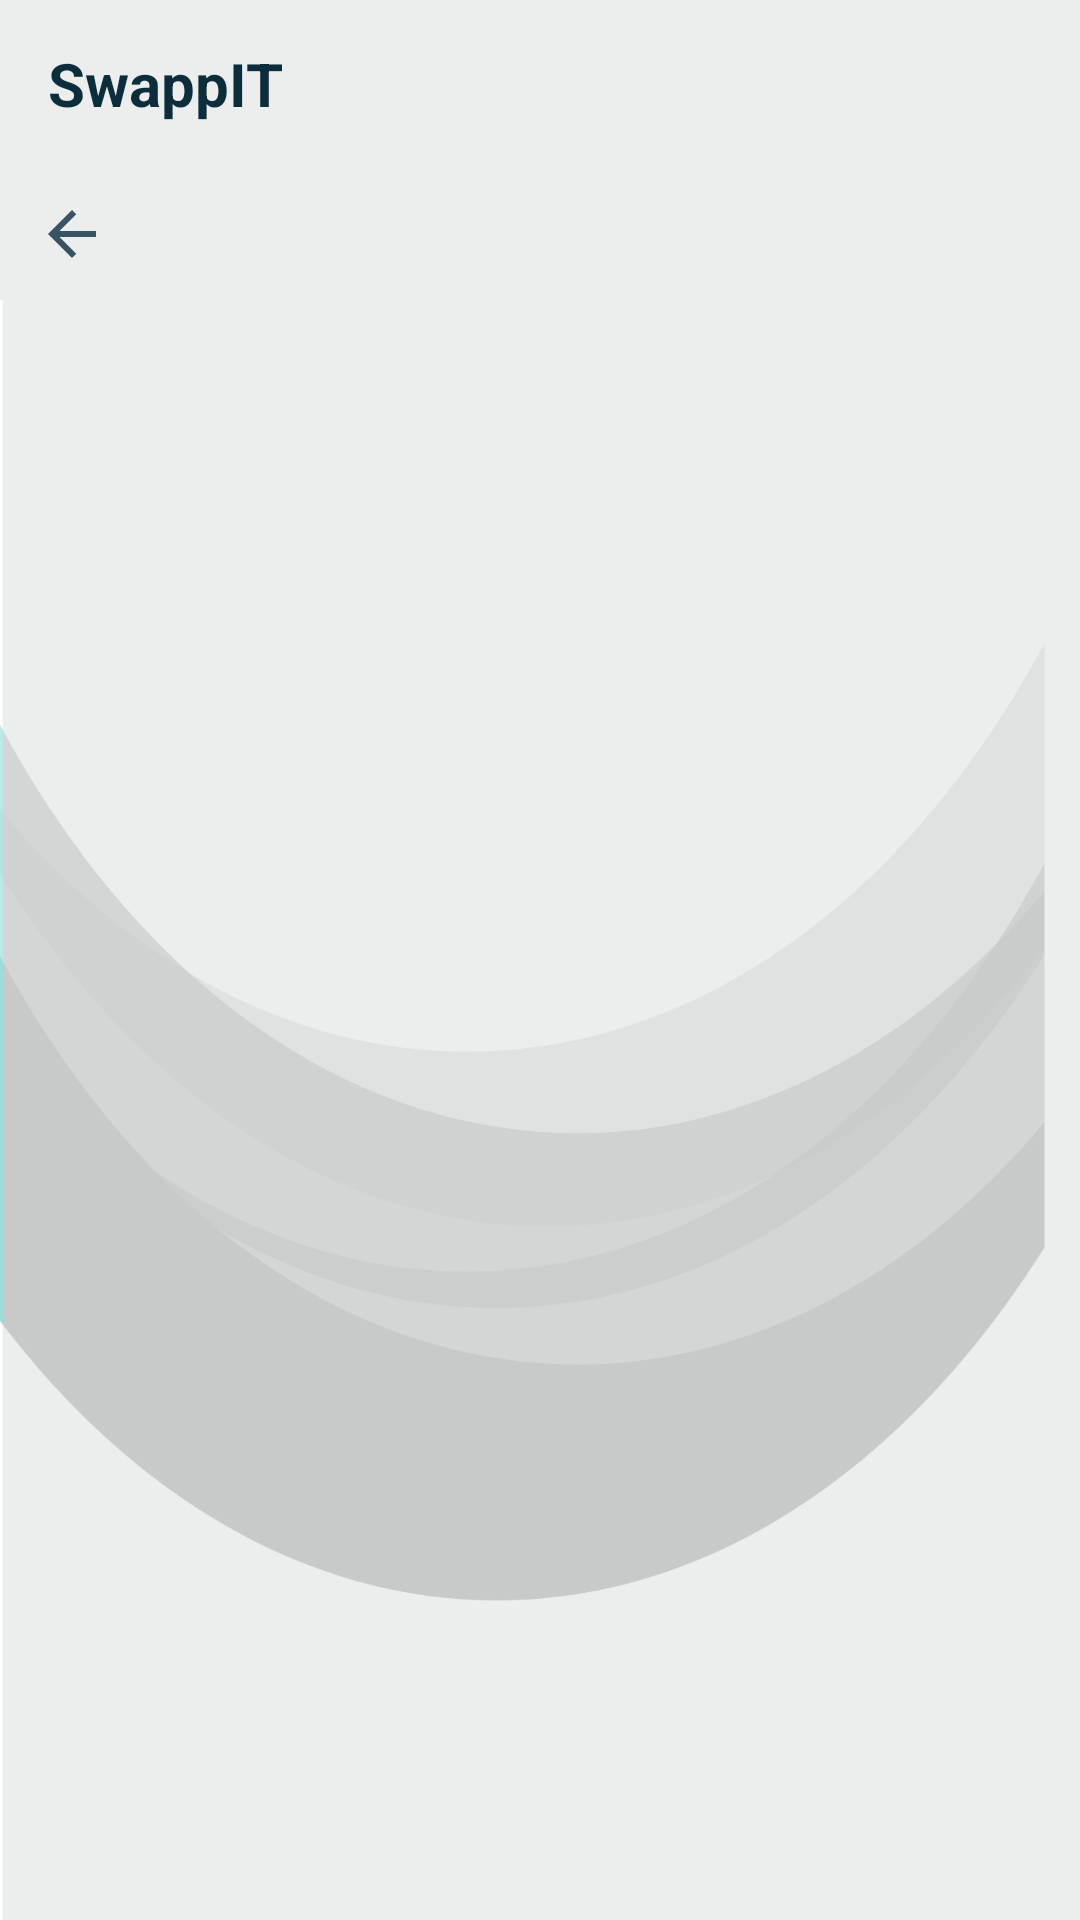

Screen size 1080px×1920px. Icon name, then its center in pixels as point (x, y):
back: point (72, 234)
